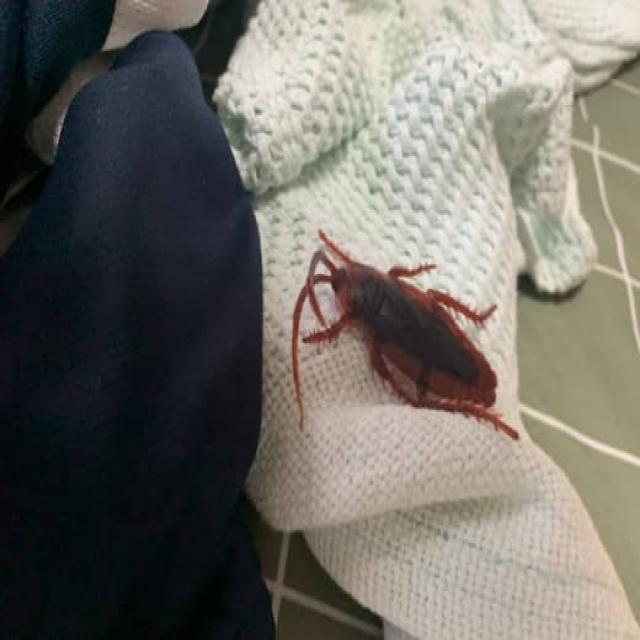Cockroach: (290, 225, 527, 445)
